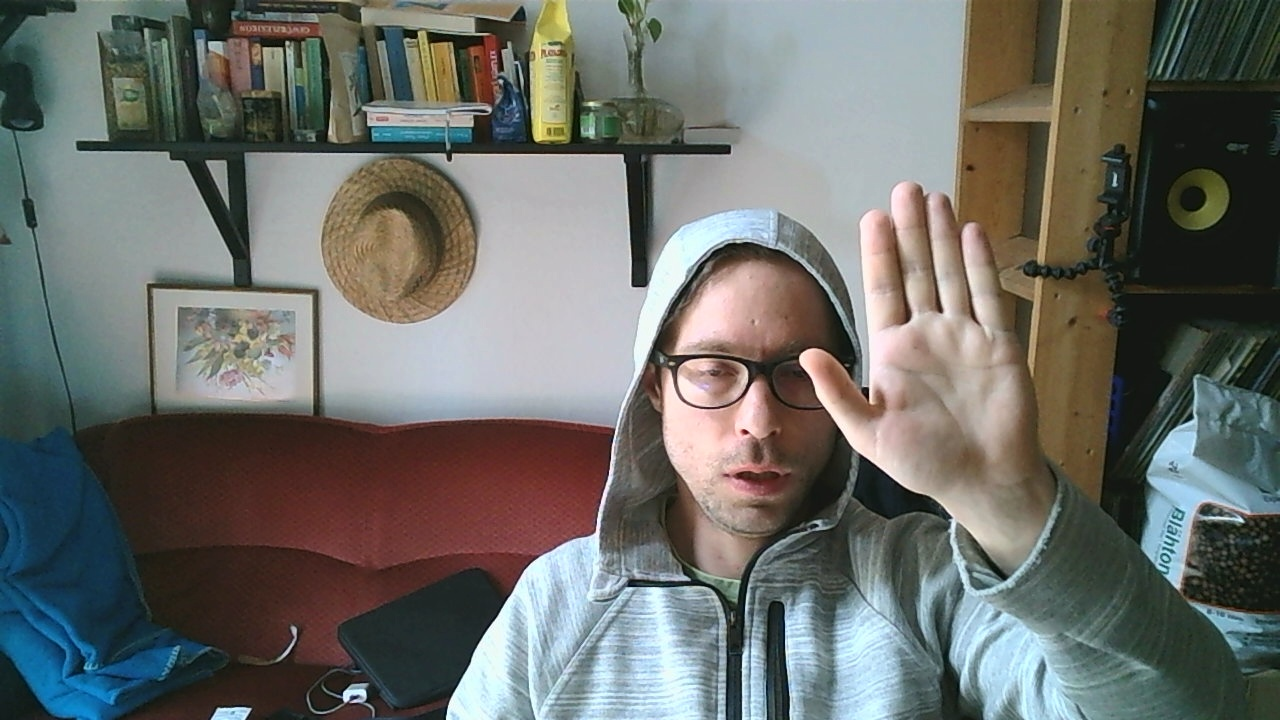hello: (799, 179, 1039, 508)
